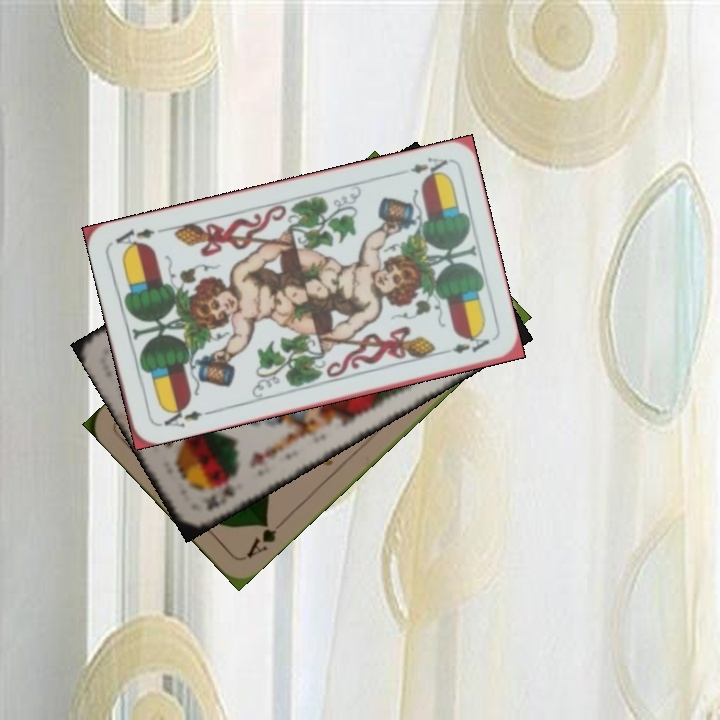EA: (393, 153, 451, 181), (155, 400, 205, 430)
GA: (242, 515, 288, 561)
SK: (199, 482, 238, 512)
